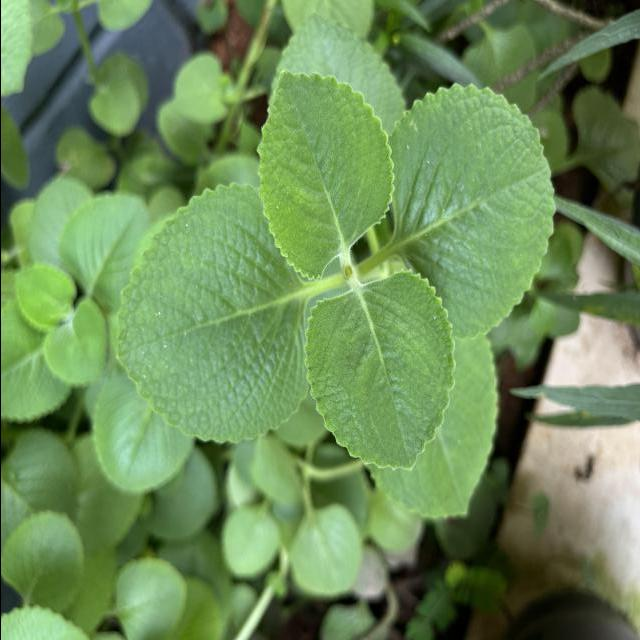Plectranthus barbatus: (111, 181, 307, 447), (386, 80, 556, 342), (302, 267, 457, 473), (252, 68, 396, 282), (88, 364, 190, 494), (0, 504, 85, 616), (58, 193, 141, 304), (42, 301, 108, 388)
